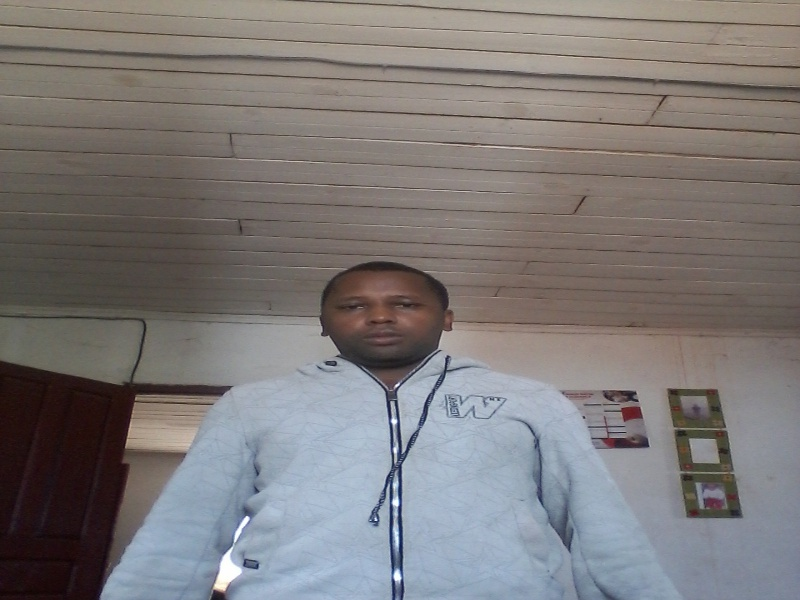TsisyArotava: (304, 244, 483, 397)
